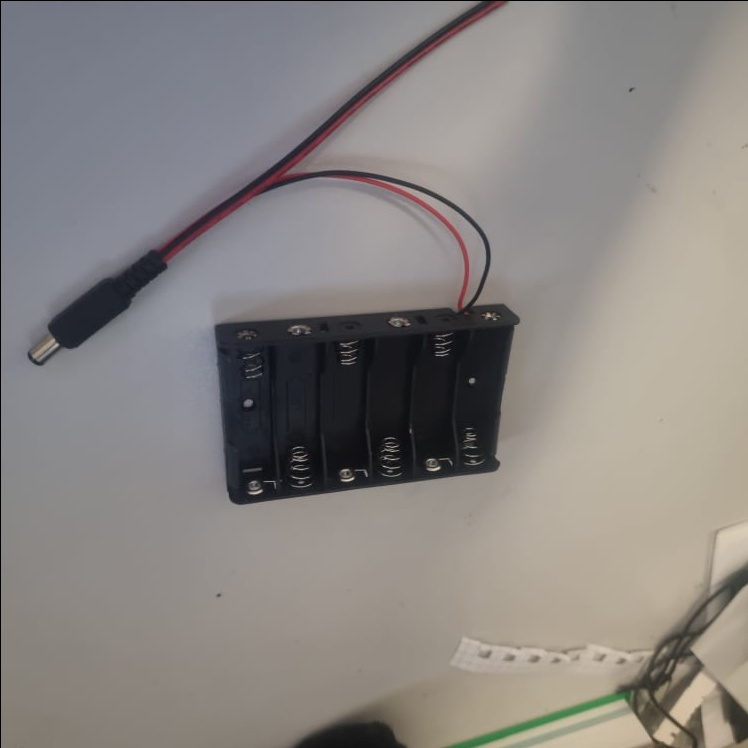BATTERY BOX: (210, 300, 521, 505)
